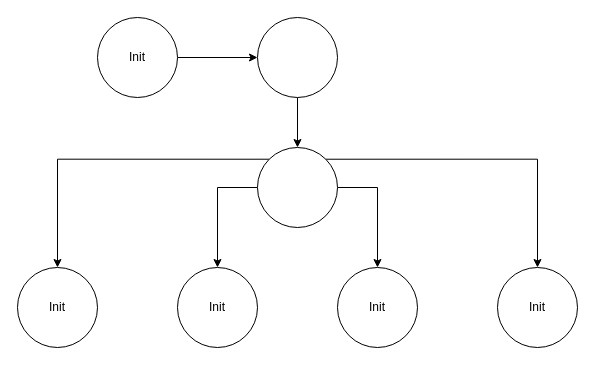
Some shapes in this 595 by 365 pixel diagram are drawn without their labels. The shapes that lost their labels are listed below. From the top down, each one's centre as x and y in pixels, then its label:
point 297,57: Fetch
point 297,187: Decode
